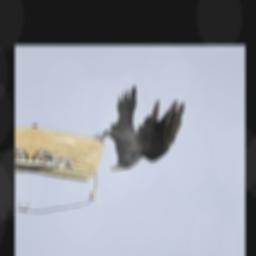Crow: (90, 81, 189, 177)
